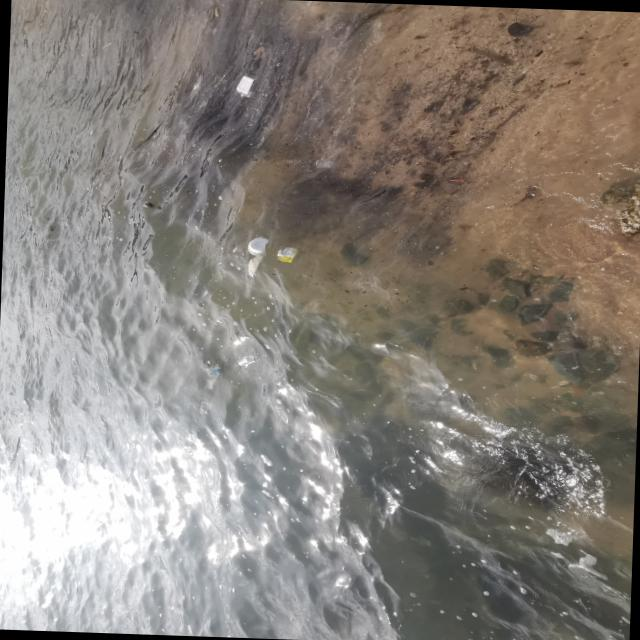foam: (236, 72, 259, 98)
plastic bottle: (238, 354, 256, 366)
